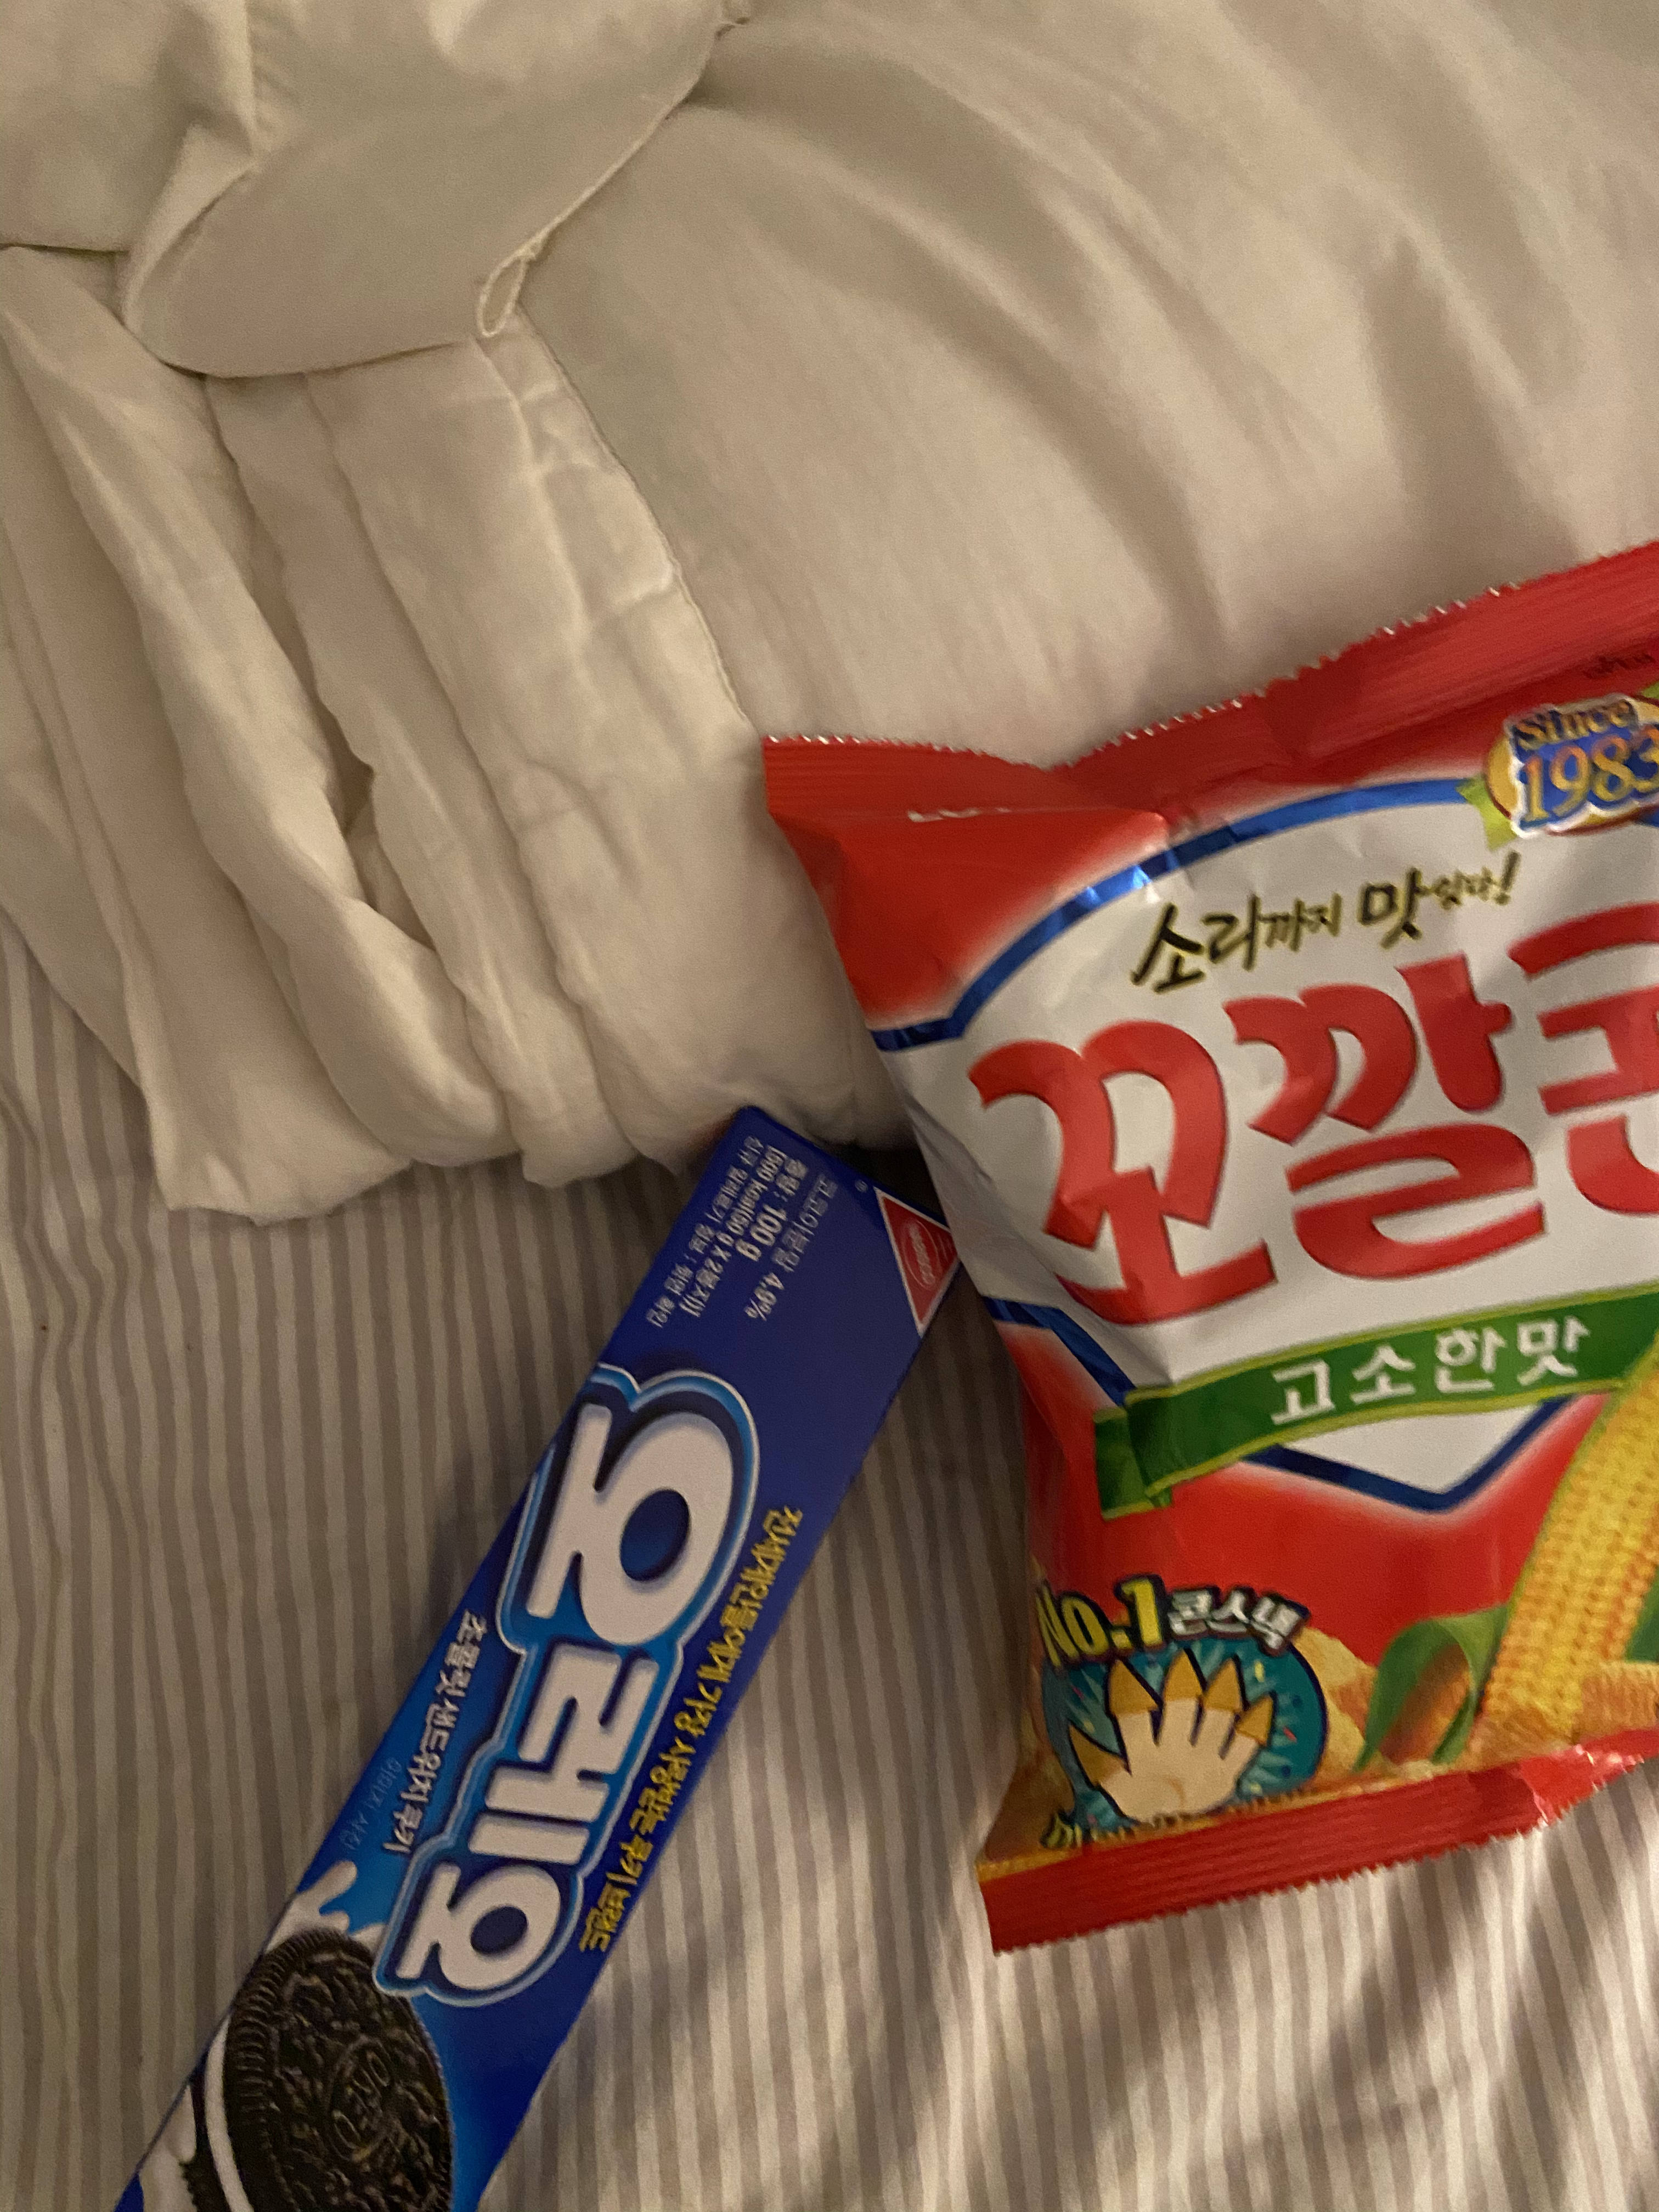ggoggalcon: (756, 523, 1659, 1979)
oreo: (122, 1094, 985, 2212)
